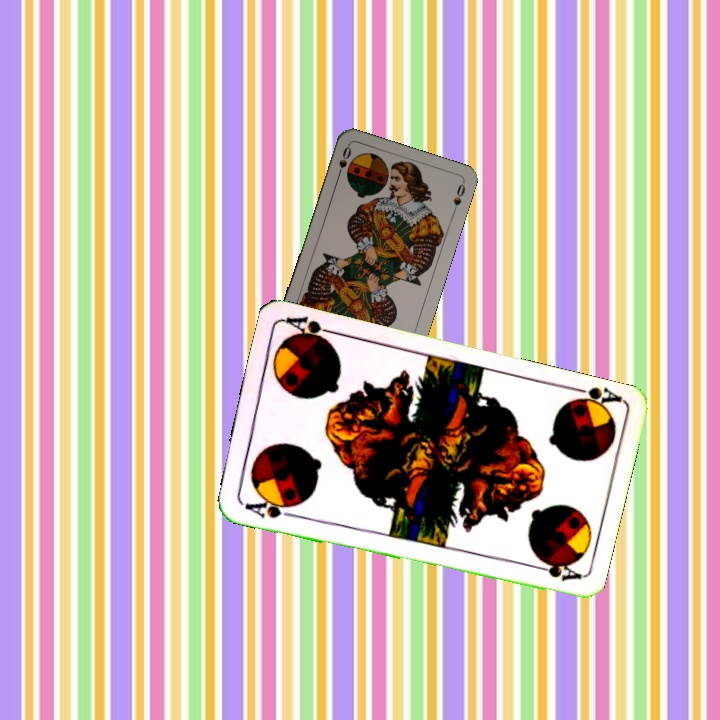SA: (562, 382, 624, 415), (238, 493, 298, 521)
SO: (333, 142, 354, 182)
